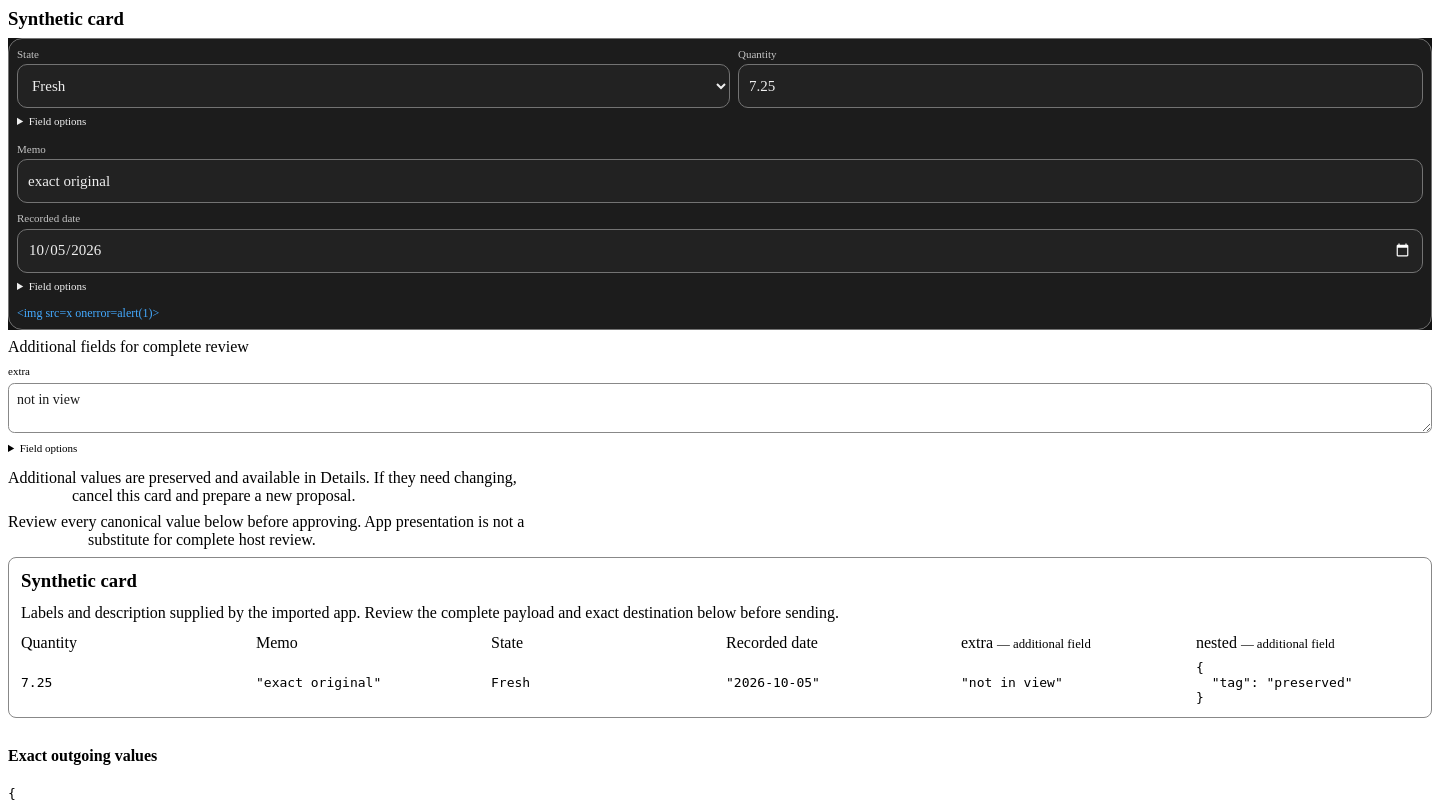
it: opt-in app-owned view rendering › preserves failed pending edits and blocks review rather than showing older values
Replace the text in the field named "Item 1 — Memo" with "pending edit" at {"x": 720, "y": 181}, box x1=17 y1=159 x2=1423 y2=203
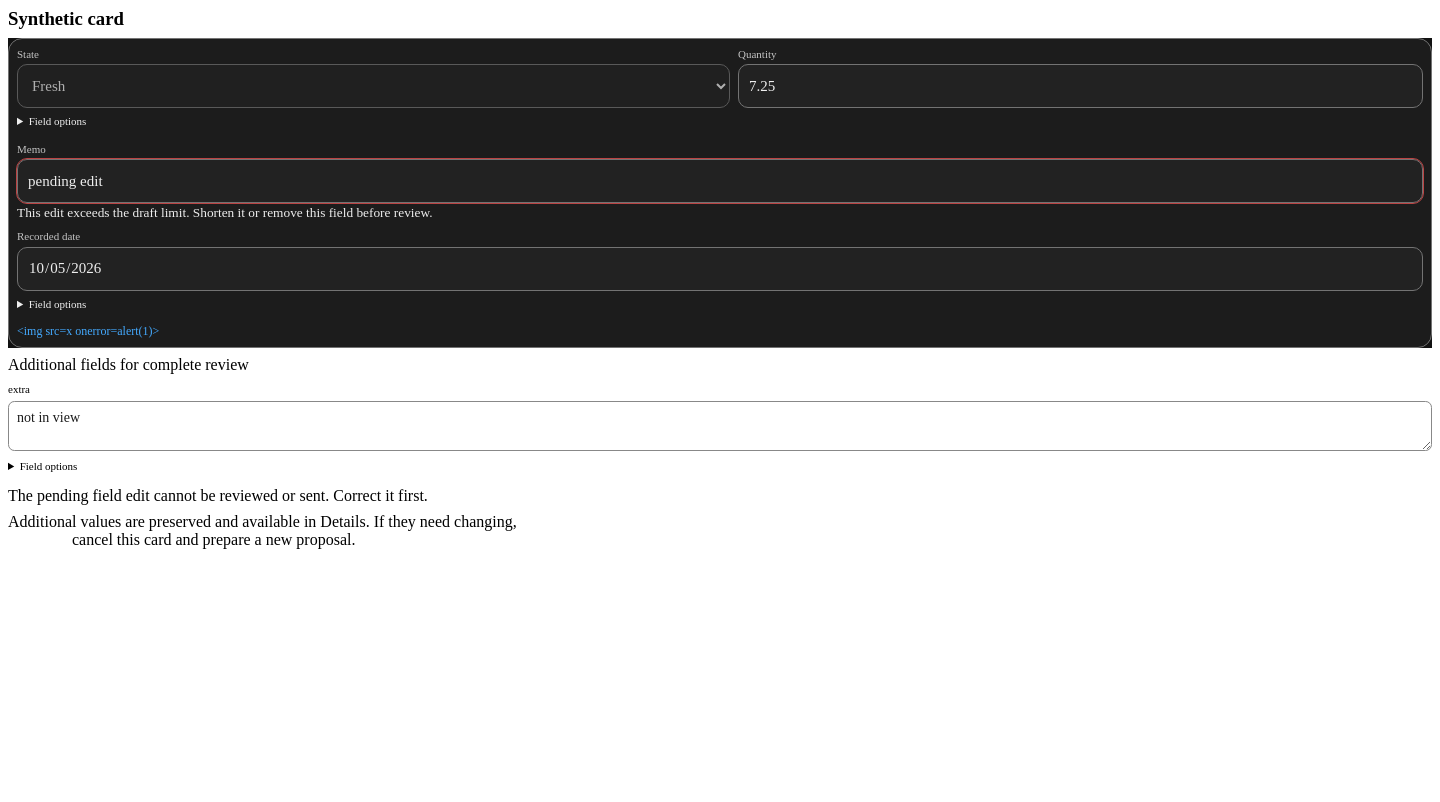
Expected: the text "cannot be reviewed or sent" is shown, x1=8 y1=487 x2=428 y2=504
